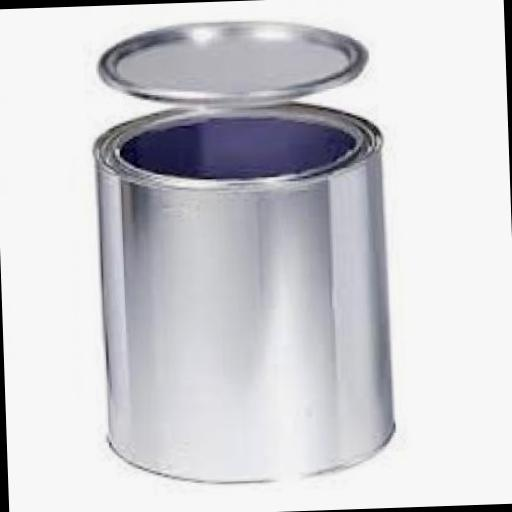metal: (88, 96, 394, 484), (94, 21, 367, 102)
